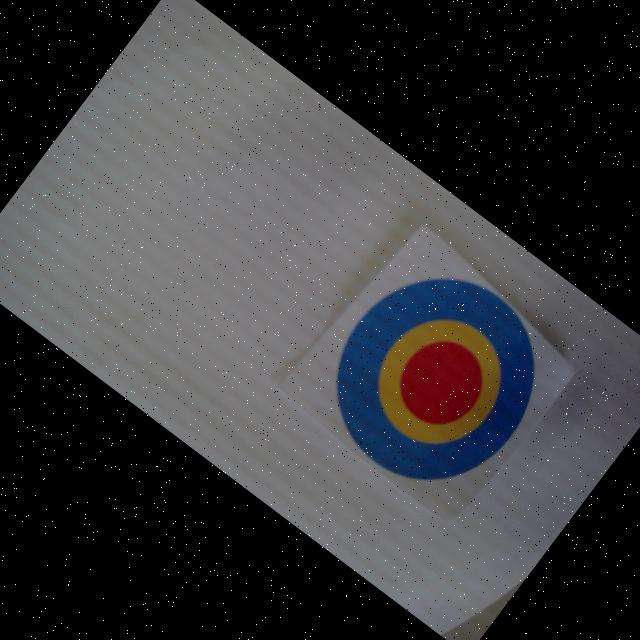COGNITIVE: (296, 239, 574, 520)
